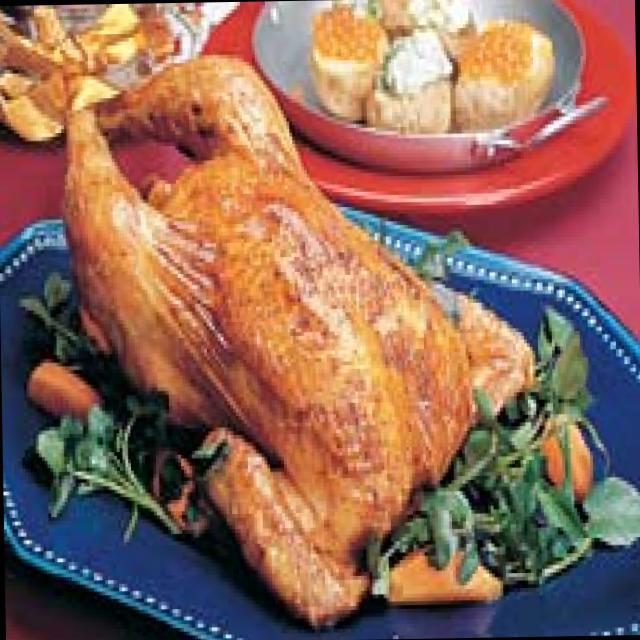Chicken: (50, 42, 468, 583)
